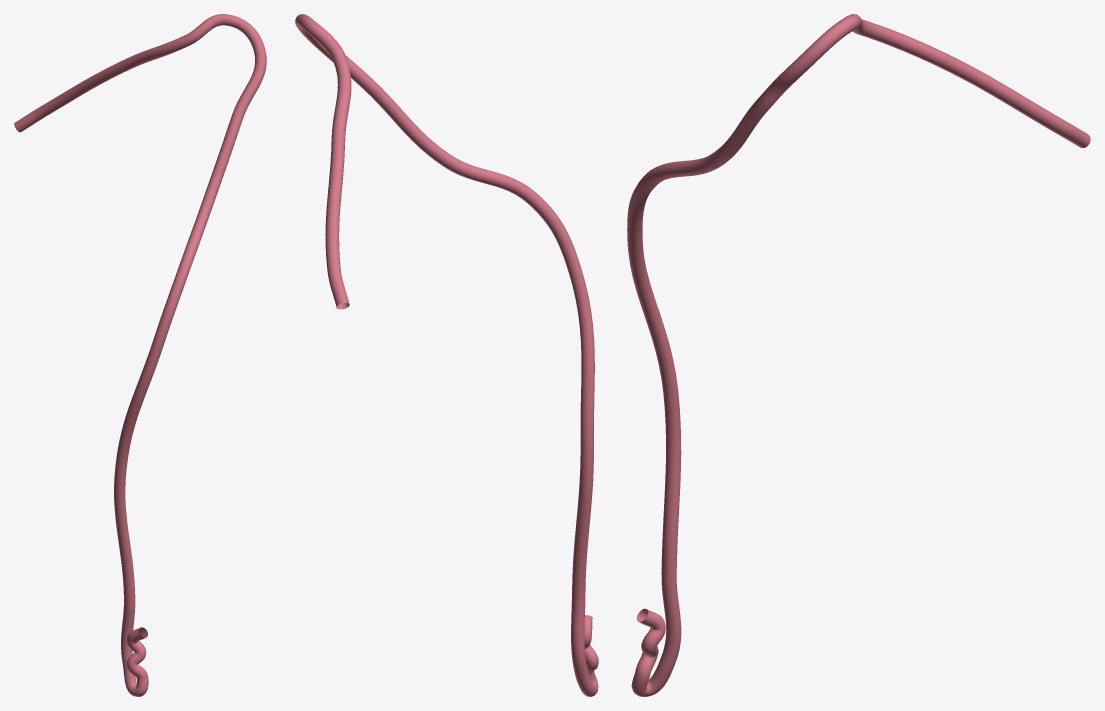
File: Ductus_deferens_left.glb
The picture shows the model from 3 angles, left to right: view 1: azimuth 30°, elevation 25°; view 2: azimuth 150°, elevation 25°; view 3: azimuth 270°, elevation 25°; orthographic projection. The views are drawn at different scales.
Parts seen in each view (by area): view 1: Ductus_deferens.l_BezierCurve.287; view 2: Ductus_deferens.l_BezierCurve.287; view 3: Ductus_deferens.l_BezierCurve.287.
Part boxes in pixels (bbox=[...]): Ductus_deferens.l_BezierCurve.287: bbox=[14, 14, 266, 696]; Ductus_deferens.l_BezierCurve.287: bbox=[295, 14, 598, 696]; Ductus_deferens.l_BezierCurve.287: bbox=[627, 14, 1090, 696].
Size of the model in its own units: 0.0587 by 0.1666 by 0.0893.
